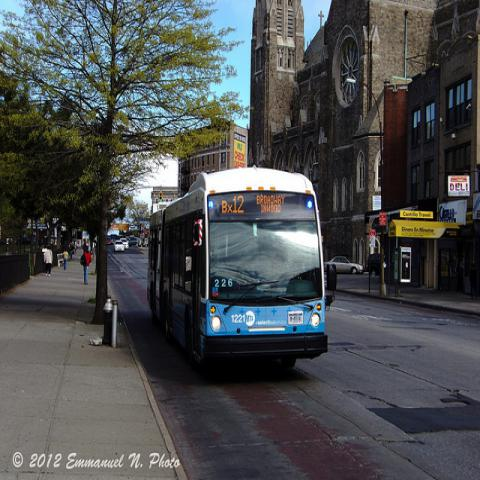bus: (146, 167, 329, 372)
car: (324, 256, 364, 274), (129, 237, 141, 247), (120, 238, 129, 249), (114, 241, 124, 250), (106, 236, 112, 244)
